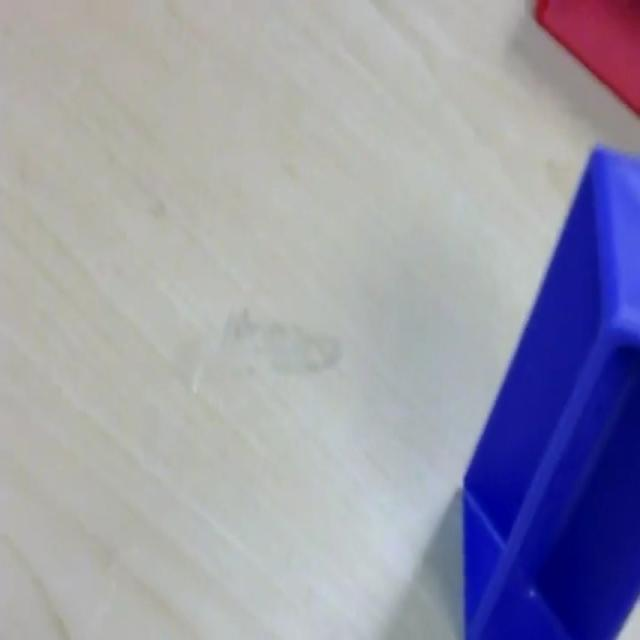blue_block: (461, 140, 638, 636)
